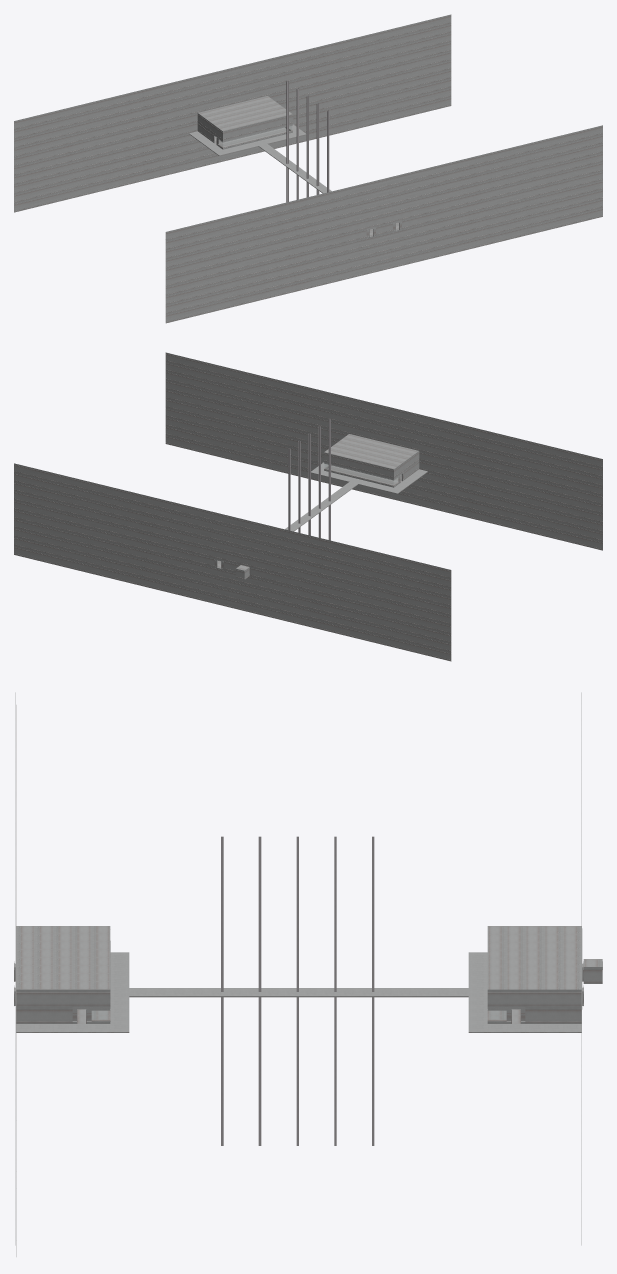
File: Level_02_1.0.fbx
3 views of the same model, one above another, from view 1: azimuth 30°, elevation 25°; view 2: azimuth 150°, elevation 25°; view 3: azimuth 270°, elevation 25° (orthographic). The views are drawn at different scales.
Parts seen in each view (by area): view 1: polySurface387; view 2: polySurface387; view 3: polySurface387.
Boxes of the visible parts, x1,y1,x2,y2 form: polySurface387: (14,14,602,323); polySurface387: (14,352,602,661); polySurface387: (14,692,602,1256).
Size of the model in its own units: 15002 by 5400 by 9368.
